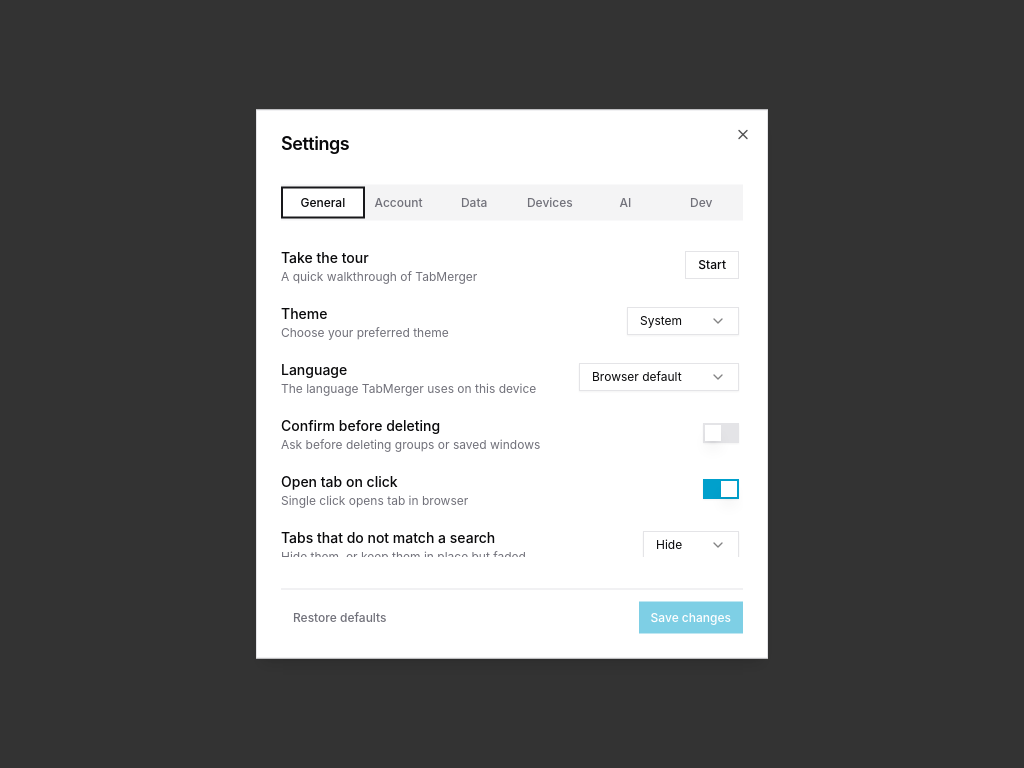
Test case: SettingsModal — Account tab AI usage indicator › shows AI credits remaining for Pro AI users
Click the tab "Account" at (399, 202), box [361,190,436,214]
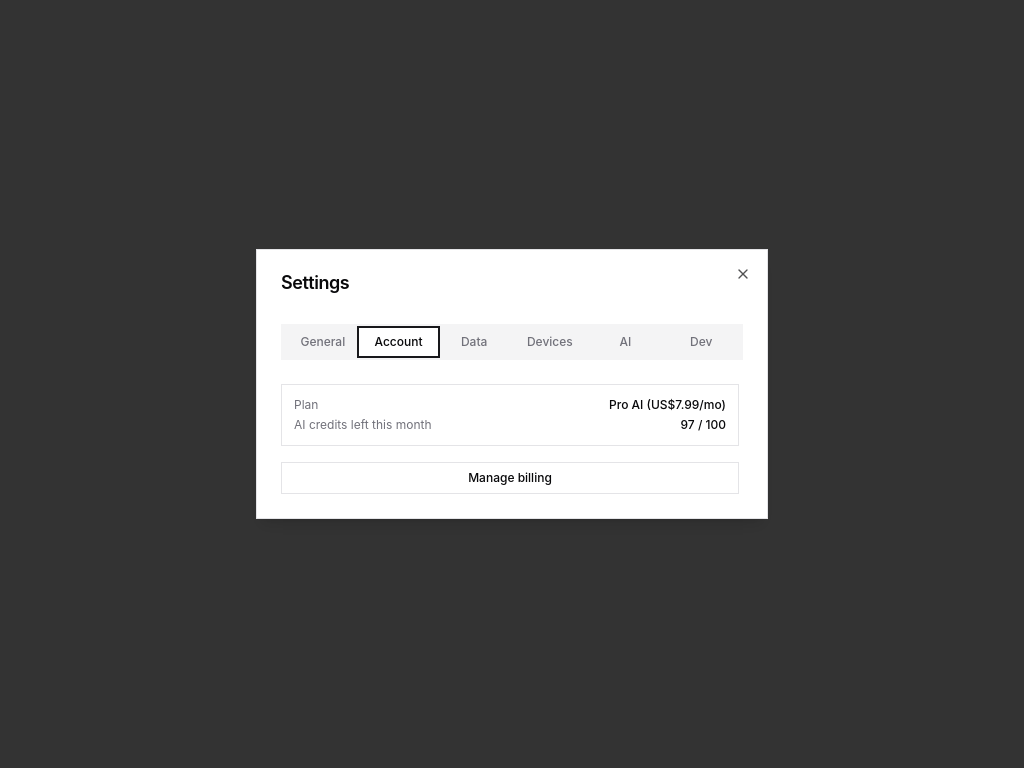
Now the text "97 / 100" is shown, box [680,417,726,433]
